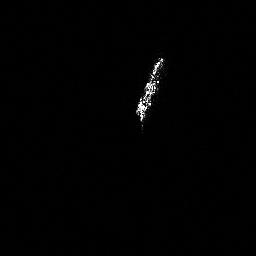ship: (133, 55, 166, 128)
